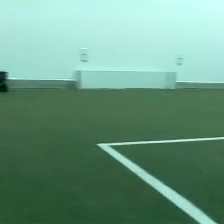goal: (72, 67, 179, 92)
robot: (1, 68, 11, 94)
